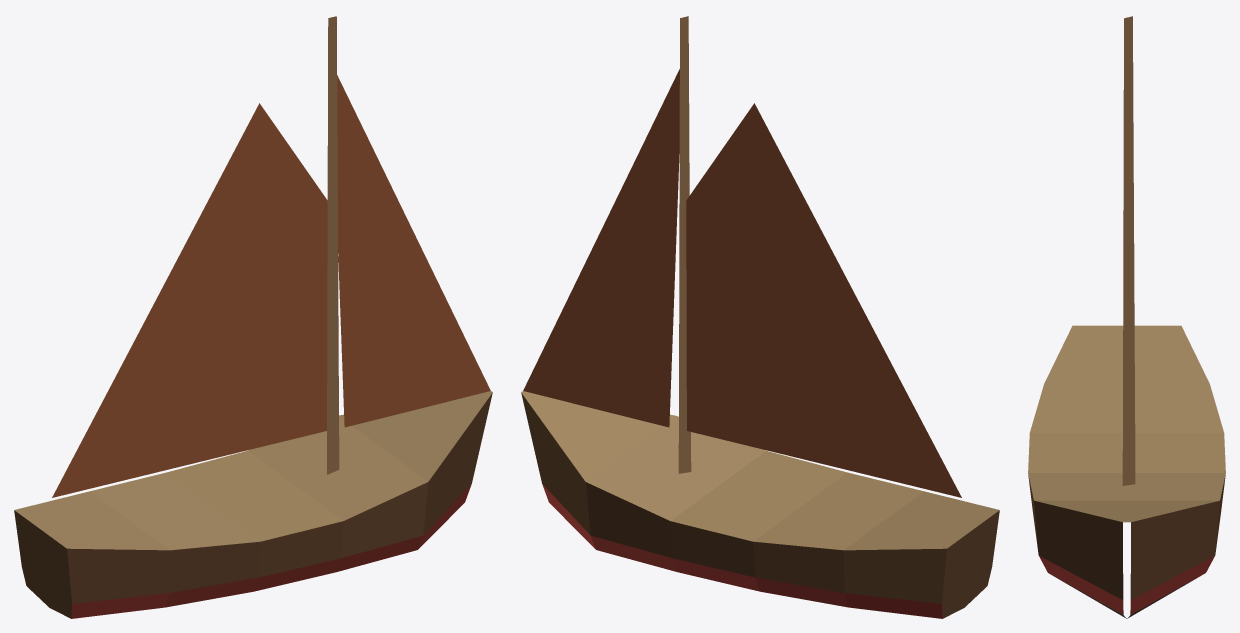
Rendered from hull_eur_botter_small_lod.glb.
The picture shows the model from 3 angles, left to right: view 1: azimuth 30°, elevation 25°; view 2: azimuth 150°, elevation 25°; view 3: azimuth 270°, elevation 25°; orthographic projection. The views are drawn at different scales.
Visible parts, largest first — view 1: lod; view 2: lod; view 3: lod.
Boxes of the visible parts, bbox=[...] form: lod: bbox=[14, 16, 492, 618]; lod: bbox=[521, 16, 999, 618]; lod: bbox=[1028, 16, 1225, 618].
Size of the model in its own units: 10 by 11.42 by 3.7.
